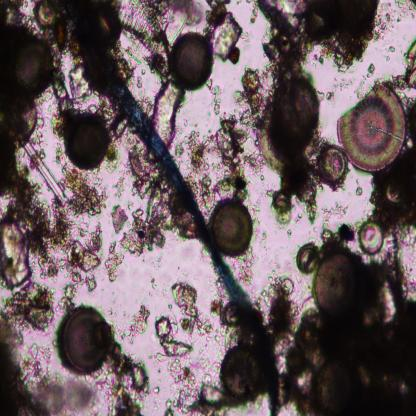Background material: (262, 277, 416, 416), (0, 271, 54, 416), (0, 0, 87, 89), (30, 214, 109, 310), (188, 107, 252, 209), (0, 166, 53, 289), (301, 0, 377, 70), (361, 141, 416, 235), (249, 0, 308, 84), (40, 52, 94, 140), (239, 70, 281, 176), (34, 356, 107, 416), (125, 135, 172, 224), (0, 140, 69, 200), (106, 338, 155, 416), (167, 358, 227, 416), (170, 273, 220, 338), (277, 162, 324, 225), (60, 167, 108, 224), (205, 0, 245, 68), (122, 213, 173, 264), (155, 312, 195, 366), (161, 188, 195, 245), (375, 0, 416, 47), (398, 40, 416, 147), (160, 0, 208, 39), (154, 82, 184, 143), (100, 91, 133, 146), (195, 325, 226, 383), (172, 141, 206, 188), (318, 200, 353, 241), (133, 69, 155, 112), (122, 306, 153, 336), (235, 248, 257, 289), (101, 243, 123, 281), (110, 161, 133, 197), (112, 200, 132, 236), (255, 198, 269, 247), (352, 63, 374, 94), (206, 80, 223, 118), (268, 255, 286, 278), (316, 88, 336, 106), (113, 327, 135, 343), (147, 278, 161, 300), (148, 349, 166, 366), (334, 78, 355, 92), (53, 140, 61, 168), (106, 291, 120, 306), (247, 8, 259, 24), (106, 310, 119, 320), (354, 180, 362, 196), (285, 227, 293, 240), (154, 401, 163, 412), (163, 286, 169, 298), (154, 387, 160, 396), (390, 45, 396, 54), (156, 366, 161, 375), (386, 56, 389, 64)
Cotton: (105, 66, 259, 337)
Diatom: (335, 80, 404, 178), (262, 77, 320, 167), (312, 242, 376, 322), (309, 345, 374, 416), (63, 305, 114, 375), (166, 29, 216, 94), (65, 110, 110, 174), (218, 340, 263, 403), (369, 229, 398, 326), (209, 196, 255, 253), (13, 36, 56, 94), (108, 0, 160, 45), (1, 89, 41, 146), (112, 28, 156, 71), (83, 0, 121, 47), (316, 140, 349, 188), (358, 220, 388, 254), (32, 0, 61, 28), (298, 240, 320, 274), (220, 298, 243, 328), (273, 190, 292, 217), (276, 275, 294, 293)
